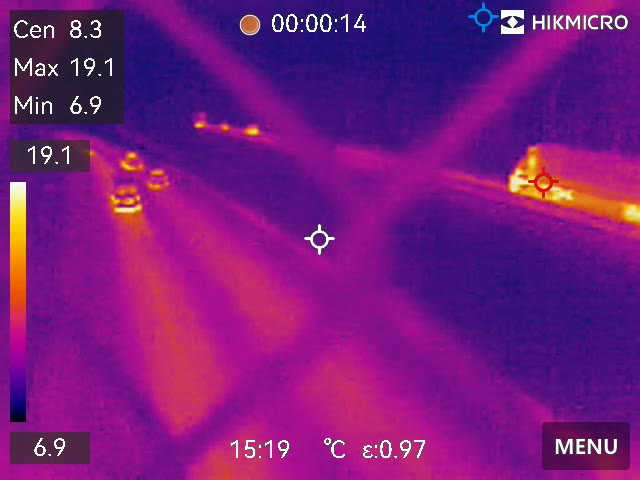heavyTruck: (508, 145, 640, 218)
vehicle: (108, 179, 145, 213), (147, 168, 171, 191)
